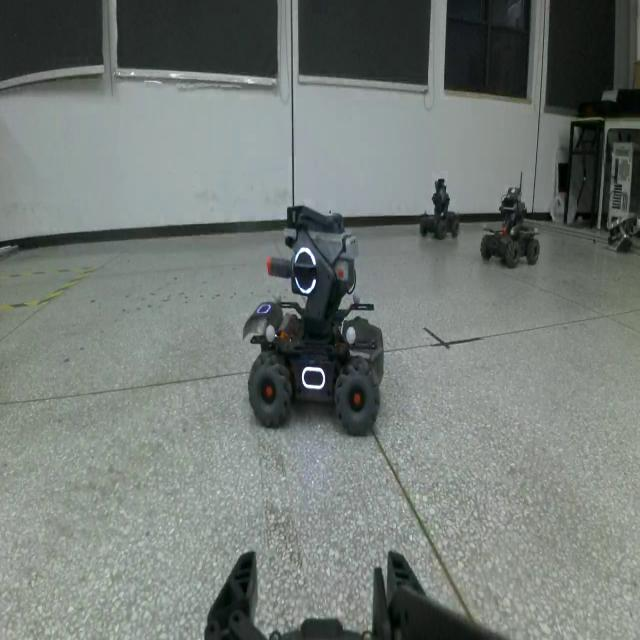s1: (236, 196, 400, 440), (479, 170, 542, 271), (420, 173, 461, 246)
